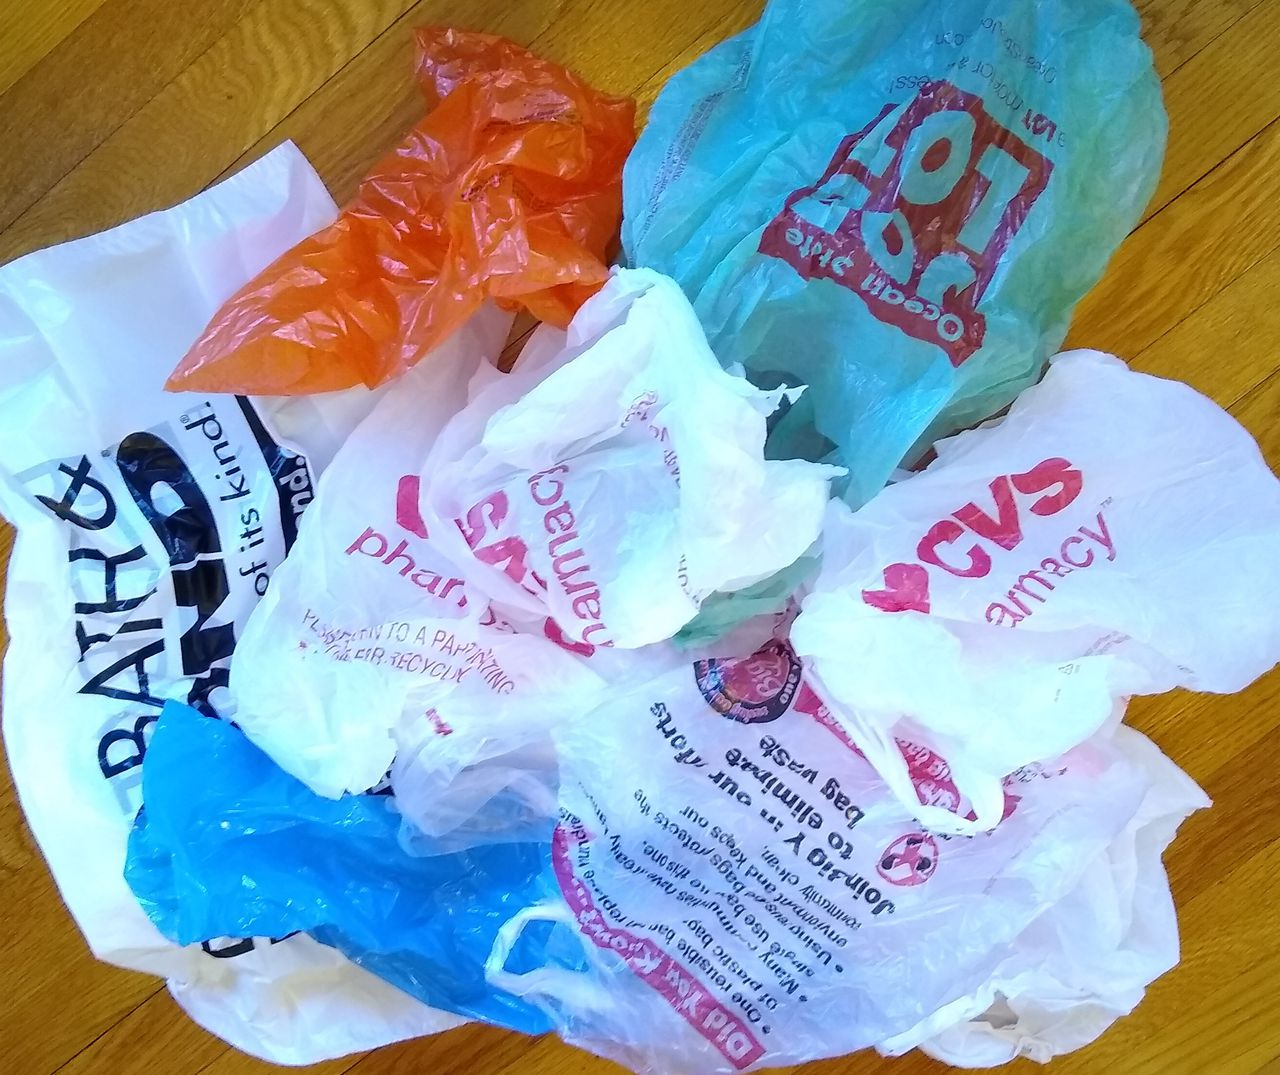plastic_bagwdw: (108, 442, 1216, 1075), (1, 155, 692, 1075), (203, 256, 878, 937), (587, 3, 1234, 630), (813, 292, 1280, 897), (124, 42, 770, 446), (731, 499, 1159, 895)
